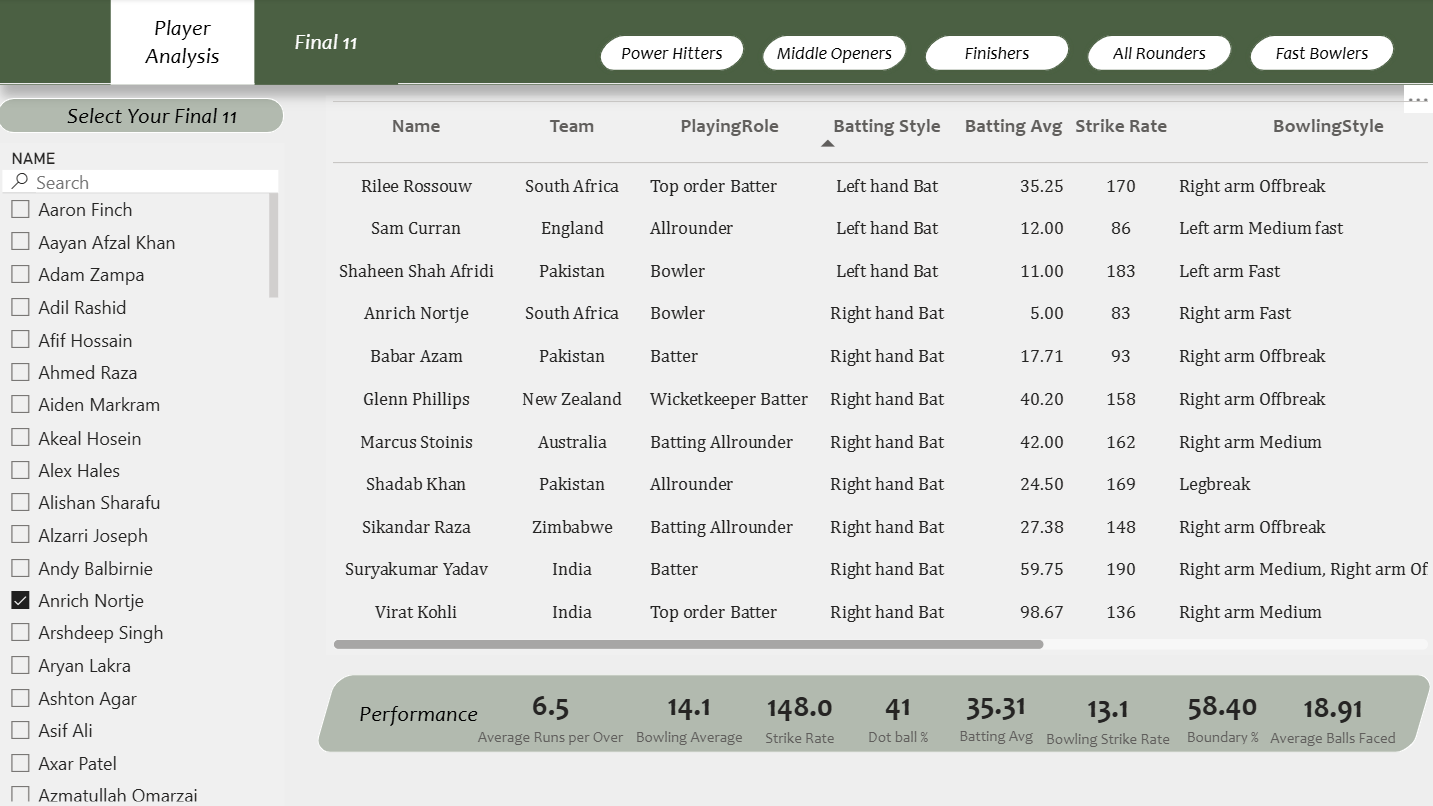

The page's visual inventory and layout, read from the dashboard file:
{"tool":"powerbi","page":{"name":"Final 11","canvas":[1280,720],"ordinal":5},"visuals":[{"type":"shape","box":[0,0,1280,77.2],"z":0},{"type":"shape","box":[281.1,602,998.9,70],"z":1000},{"type":"card","fields":{"Values":["Bowling Measures.Bowling Strike Rate"]},"box":[925.3,605.6,129.1,67.6],"z":2000},{"type":"card","fields":{"Values":["Bowling Measures.Dot ball %"]},"box":[738.3,603.5,129.1,68.8],"z":3000},{"type":"card","fields":{"Values":["Bowling Measures.Average Runs per Over"]},"box":[421,603.5,144.8,68.8],"z":4000},{"type":"card","fields":{"Values":["Bowling Measures.Bowling Average"]},"box":[552.5,603.2,129.1,67.6],"z":5000},{"type":"tableEx","fields":{"Values":["dim_players.name","dim_players.team","dim_players.playingRole","dim_players.battingStyle","Batting Measures.Batting Avg","Batting Measures.Strike Rate","dim_players.bowlingStyle","Bowling Measures.Bowling Strike Rate","Bowling Measures.Average Runs per Over","Bowling Measures.Bowling Average"]},"box":[293.2,86.9,986.9,498.3],"z":6000},{"type":"card","fields":{"Values":["Batting Measures.Batting Avg"]},"box":[832.4,603.5,114.6,66.4],"z":7000},{"type":"card","fields":{"Values":["Batting Measures.Average Balls Faced"]},"box":[1124.4,605.9,131.5,66.4],"z":8000},{"type":"card","fields":{"Values":["Batting Measures.Boundary %"]},"box":[1031.5,604.7,119.4,65.1],"z":9000},{"type":"card","fields":{"Values":["Batting Measures.Strike Rate"]},"box":[657.5,604.7,114.6,67.6],"z":10000},{"type":"shape","box":[0,89.3,255.8,31.4],"z":11000},{"type":"slicer","fields":{"Values":["dim_players.name"]},"box":[0,129.1,255.8,591.2],"z":12000},{"type":"actionButton","box":[229.2,0,127.9,77.2],"z":13000},{"type":"actionButton","box":[101.3,0,127.9,77.2],"z":14000},{"type":"actionButton","box":[528.5,29.3,144.8,39.8],"z":15000},{"type":"actionButton","box":[1107.6,29.3,144.8,39.8],"z":16000},{"type":"actionButton","box":[962.8,29.3,144.8,39.8],"z":17000},{"type":"actionButton","box":[818.1,29.3,144.8,39.8],"z":18000},{"type":"actionButton","box":[673.3,29.3,144.8,39.8],"z":19000}]}

Visuals, with their boxes in screenshot pixels (x1, y1, x2, y2), scaled from the page's 1280x720 canvas onto the 1433x806 screenshot:
shape: locate(0, 0, 1432, 86)
shape: locate(315, 674, 1432, 752)
card - Bowling Measures.Bowling Strike Rate: locate(1036, 678, 1180, 754)
card - Bowling Measures.Dot ball %: locate(827, 676, 971, 753)
card - Bowling Measures.Average Runs per Over: locate(471, 676, 633, 753)
card - Bowling Measures.Bowling Average: locate(619, 675, 763, 751)
tableEx - dim_players.name x dim_players.team: locate(328, 97, 1432, 655)
card - Batting Measures.Batting Avg: locate(932, 676, 1060, 750)
card - Batting Measures.Average Balls Faced: locate(1259, 678, 1406, 753)
card - Batting Measures.Boundary %: locate(1155, 677, 1288, 750)
card - Batting Measures.Strike Rate: locate(736, 677, 864, 753)
shape: locate(0, 100, 286, 135)
slicer - dim_players.name: locate(0, 145, 286, 805)
actionButton: locate(257, 0, 400, 86)
actionButton: locate(113, 0, 257, 86)
actionButton: locate(592, 33, 754, 77)
actionButton: locate(1240, 33, 1402, 77)
actionButton: locate(1078, 33, 1240, 77)
actionButton: locate(916, 33, 1078, 77)
actionButton: locate(754, 33, 916, 77)
